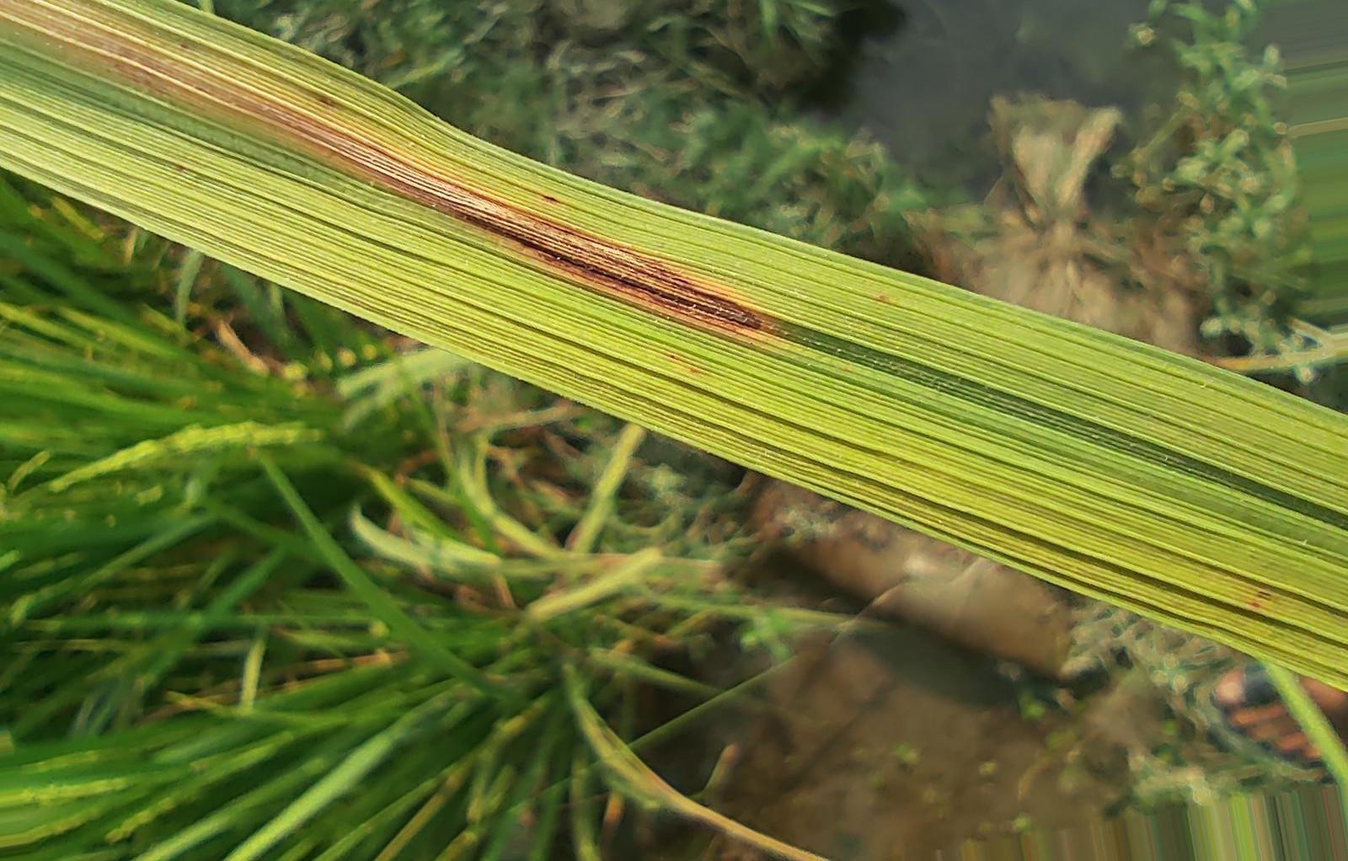LEAF: (0, 0, 1347, 683)
LEAF BLAST: (210, 83, 776, 334)
